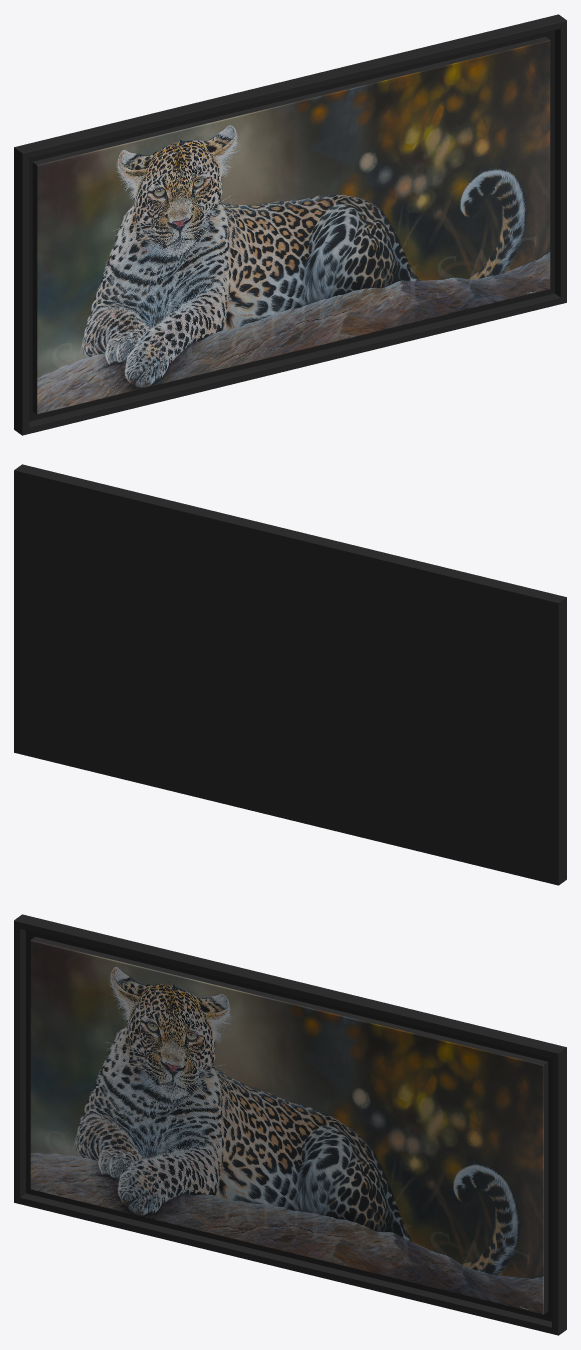
Rendered from tableau-leopard-grand-19d8f444.glb.
3 views of the same model, one above another, from view 1: azimuth 30°, elevation 25°; view 2: azimuth 150°, elevation 25°; view 3: azimuth 330°, elevation 25° (orthographic).
Parts seen in each view (by area): view 1: Painting; view 2: Painting; view 3: Painting.
Part boxes in pixels (left/top/right/bottom): Painting: left=14, top=14, right=566, bottom=435; Painting: left=14, top=464, right=566, bottom=885; Painting: left=14, top=914, right=566, bottom=1335.
Size of the model in its own units: 1.49 by 0.736 by 0.04.
4 materials, 2 textured.
